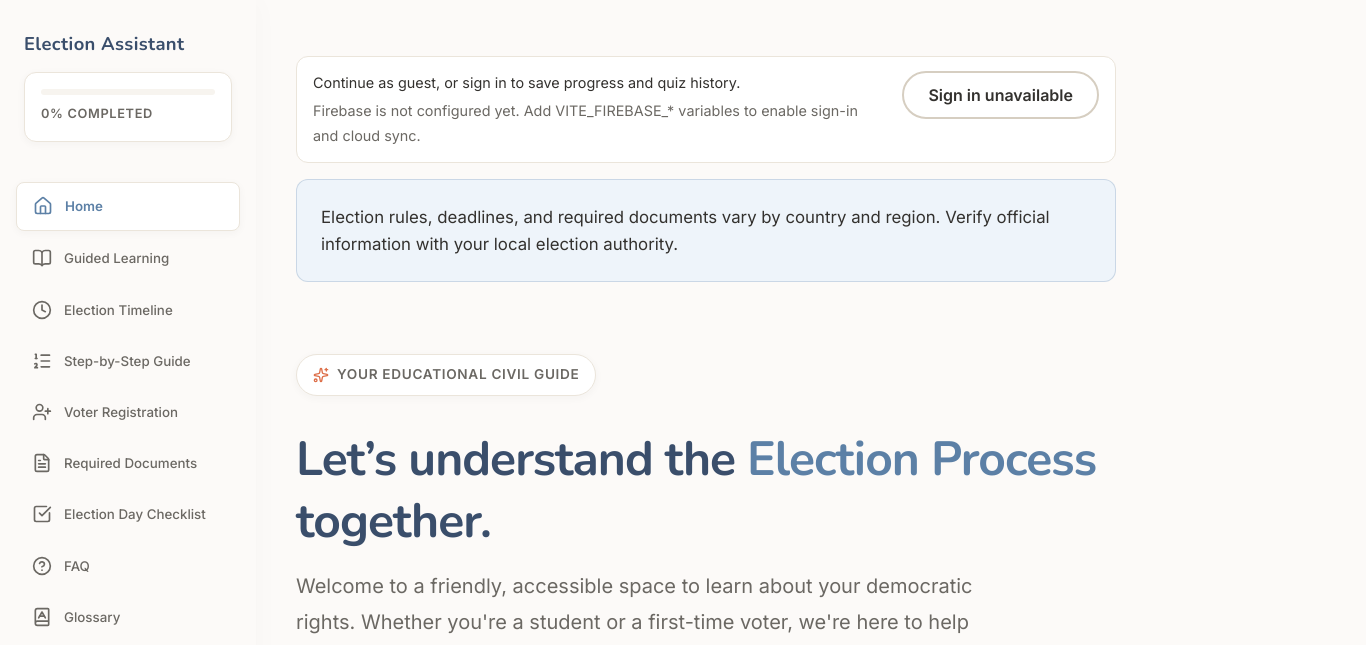
Test: App integration › navigates between sections and keeps the progress tracker in sync
The width and height of the screenshot is (1366, 645).
What coordinates should you click on to do the following:
click the button "FAQ"
I would click on:
 (128, 566)
Its box is [16, 542, 240, 589].
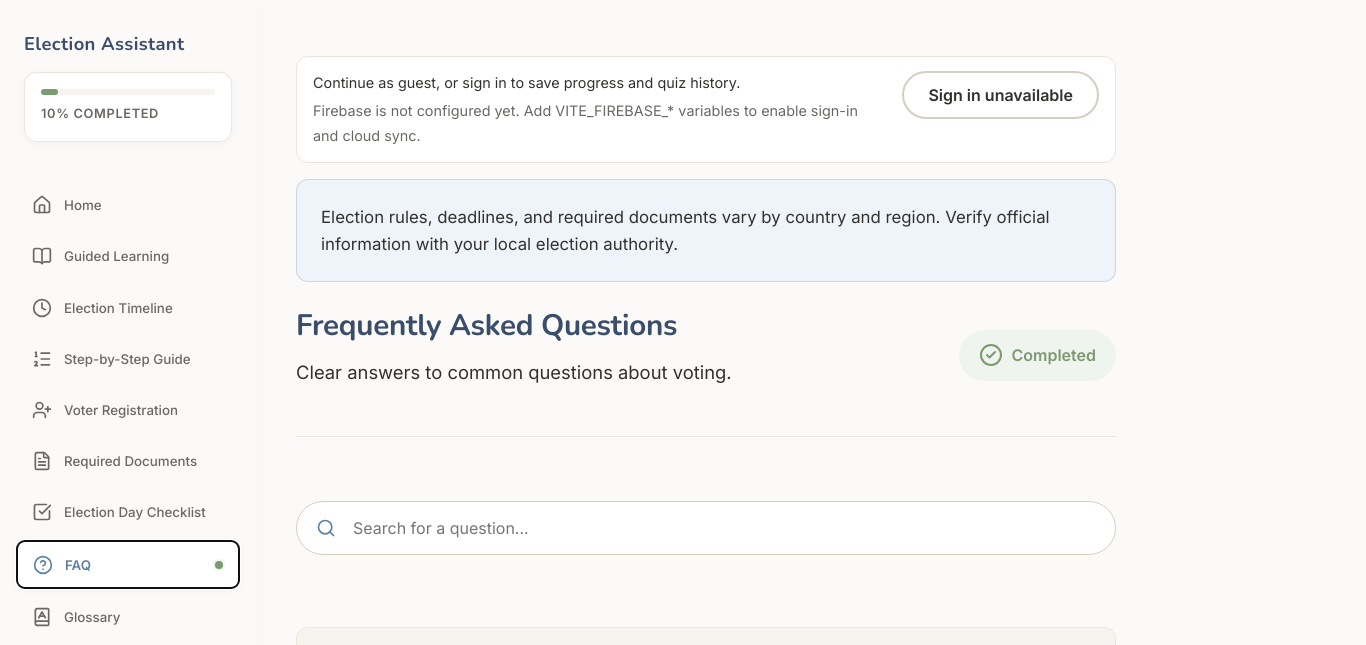
Check: the heading "Frequently Asked Questions" is shown, box [296, 306, 732, 345]
Check: the text "10% Completed" is shown, box [41, 106, 159, 121]
What coordinates should you click on to do the following:
click the button "Glossary"
I would click on:
 (128, 617)
Its box is [16, 593, 240, 640].
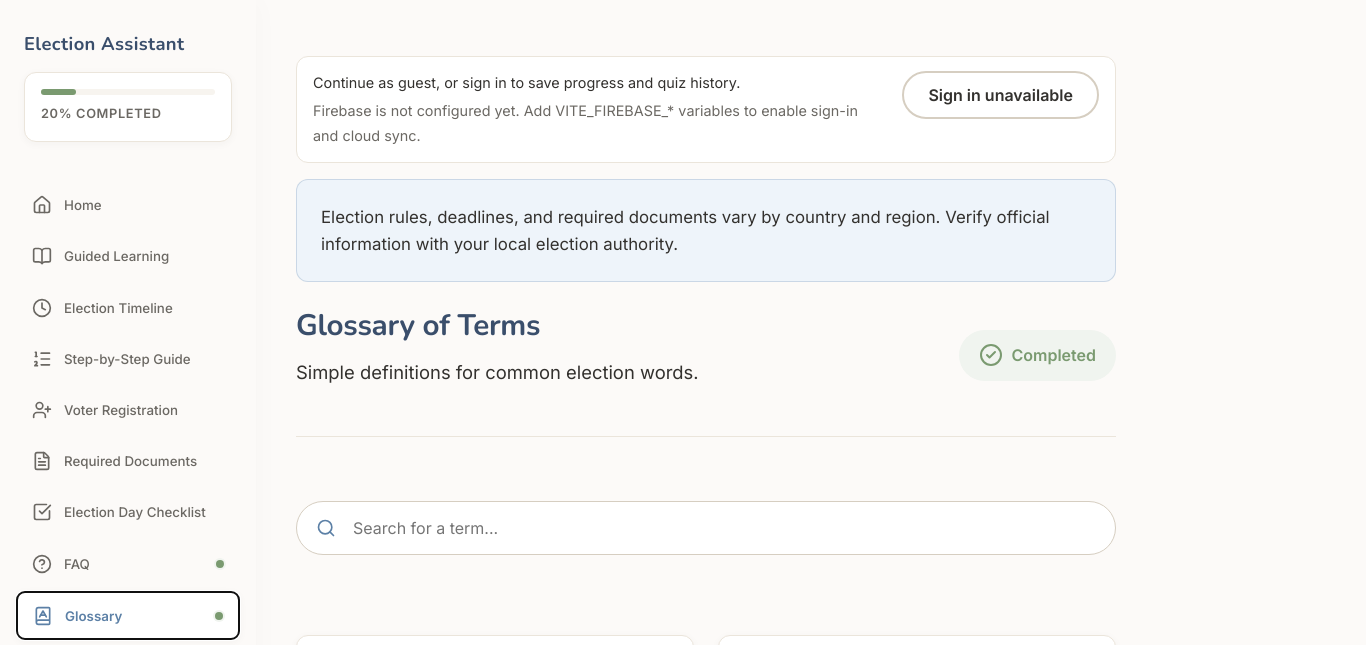
Check: the heading "Glossary of Terms" is shown, box [296, 305, 540, 345]
Check: the text "20% Completed" is shown, box [41, 106, 162, 121]
